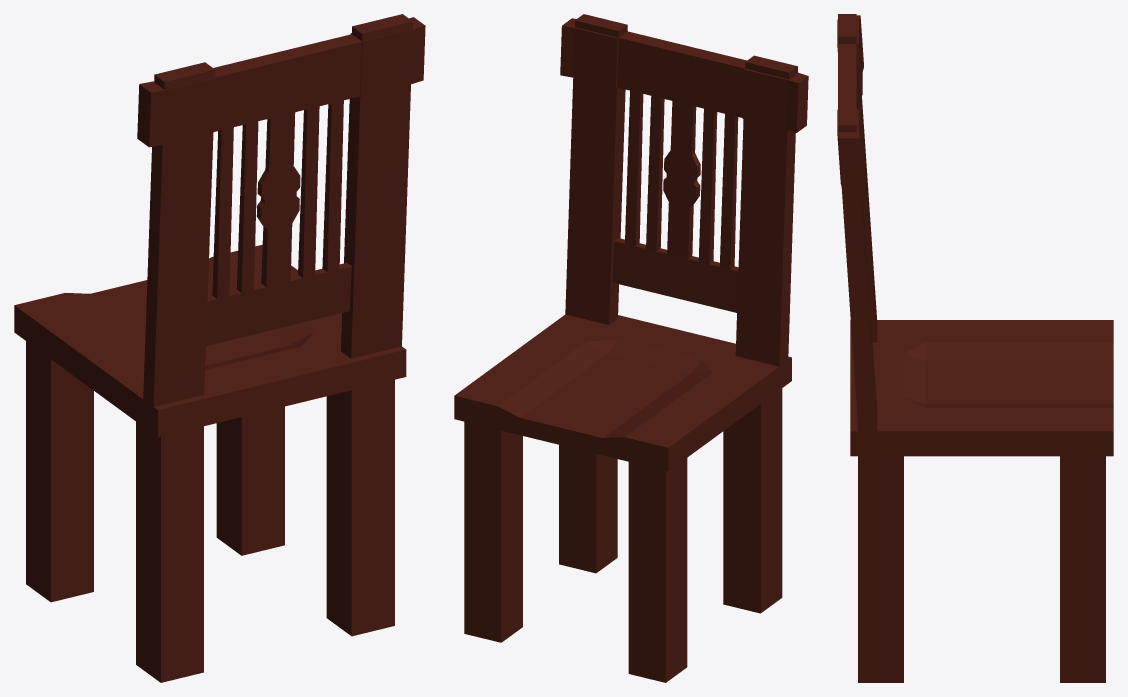
Rendered from Chair.fbx.
3 renders of one model, left to right at view 1: azimuth 30°, elevation 25°; view 2: azimuth 150°, elevation 25°; view 3: azimuth 270°, elevation 25°, orthographic. The views are drawn at different scales.
Visible parts, largest first — view 1: Chair; view 2: Chair; view 3: Chair.
Boxes of the visible parts, box(x1,y1,x2,y2) form: Chair: box(14, 14, 425, 682); Chair: box(454, 14, 808, 682); Chair: box(837, 14, 1113, 682).
Bounding box in the file's own units: 38.67 × 82.19 × 36.72.
1 material, 1 textured.
